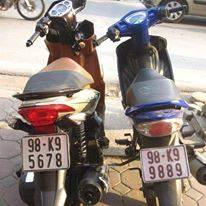bien_so: (138, 143, 192, 185), (19, 132, 72, 174)
